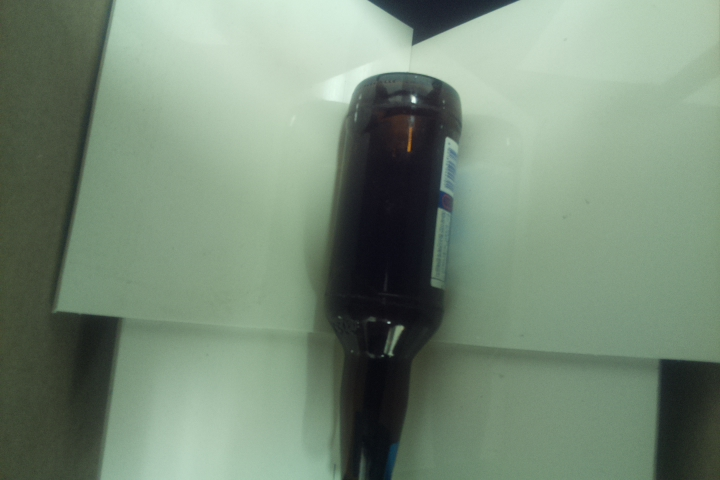makju: (315, 70, 465, 480)
